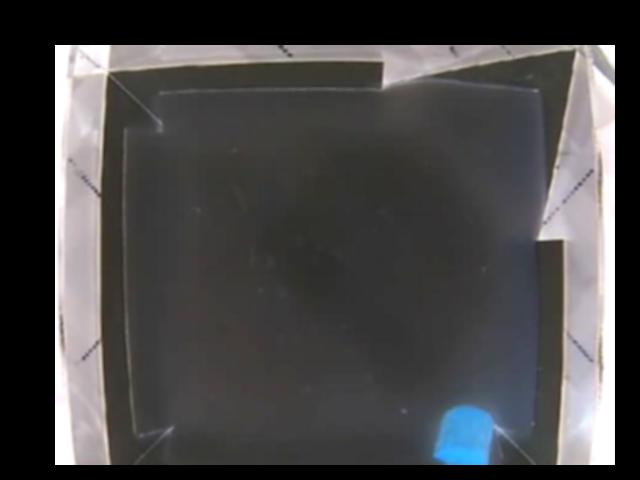Carrot: (432, 404, 493, 464)
